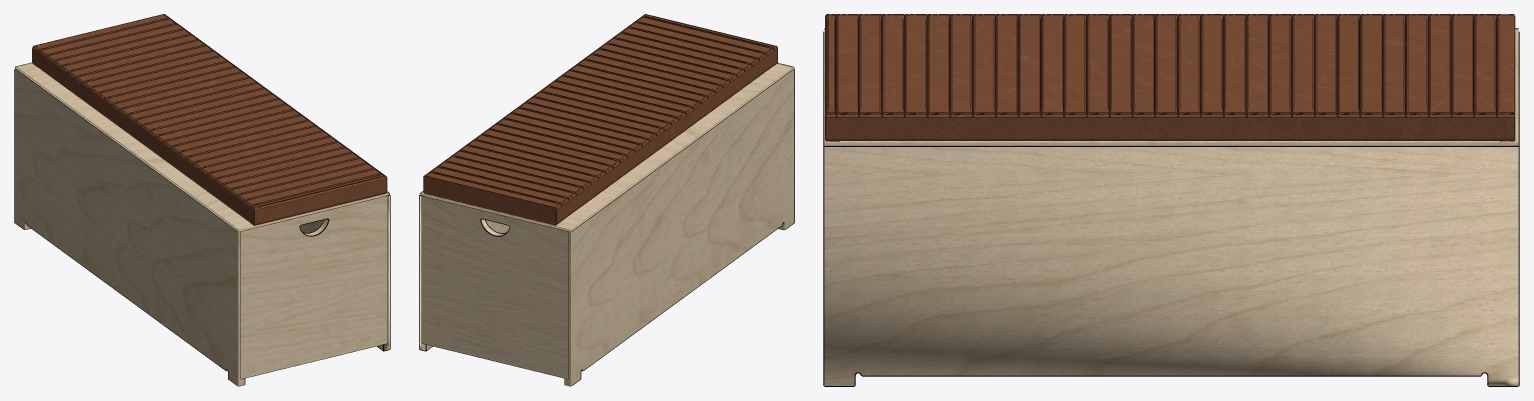
The model's file is RePlyBench.glb.
The picture shows the model from 3 angles, left to right: view 1: azimuth 30°, elevation 25°; view 2: azimuth 150°, elevation 25°; view 3: azimuth 270°, elevation 25°; orthographic projection. The views are drawn at different scales.
Parts seen in each view (by area): view 1: Banquette; view 2: Banquette; view 3: Banquette.
Part boxes in pixels (<box>): Banquette: <box>14,14,390,386</box>; Banquette: <box>419,14,794,386</box>; Banquette: <box>823,14,1519,386</box>.
Size of the model in its own units: 0.4612 by 0.504 by 1.17.
4 materials, 2 textured.
